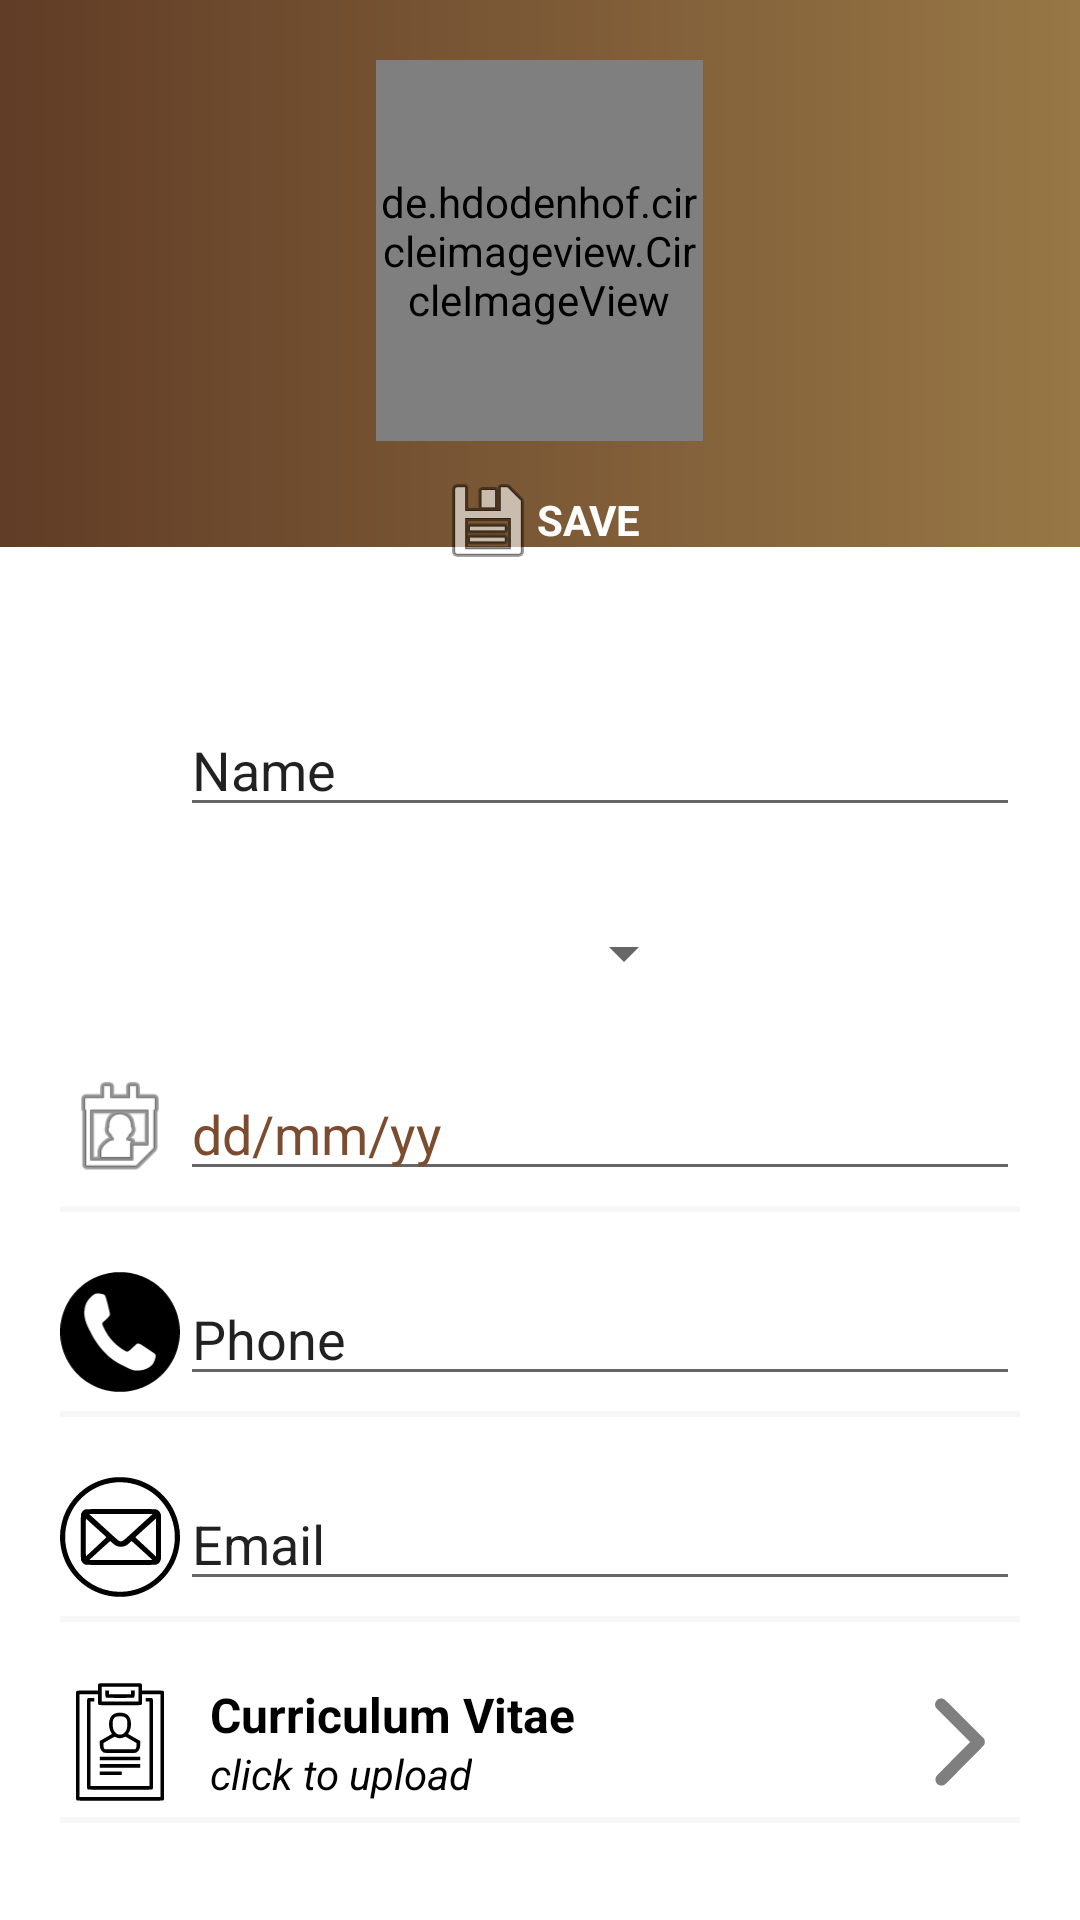

Icon click points for this 1080 x 1920 phone screenshot, format [x,y]:
calendar: [120,1126]
rightarrow: [960,1742]
